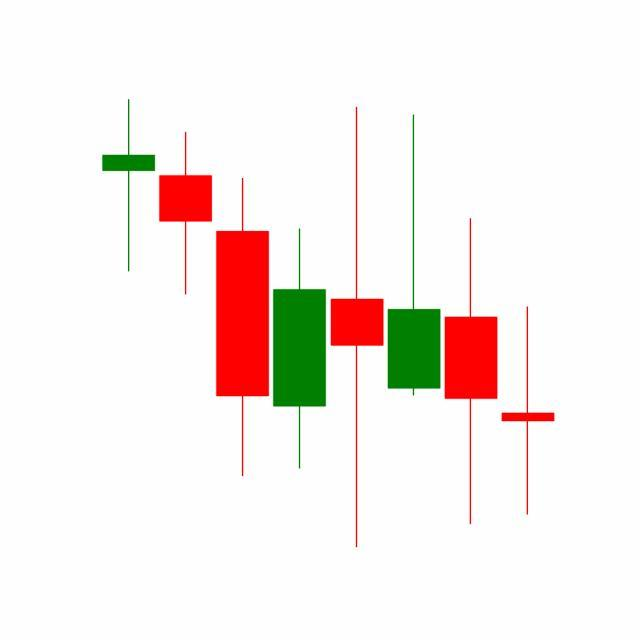Hikkake Pattern: (214, 102, 501, 548)
